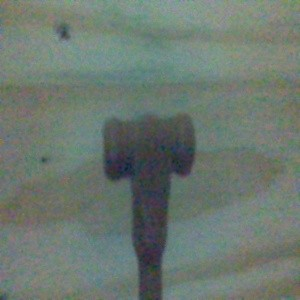palu: (101, 110, 197, 300)
